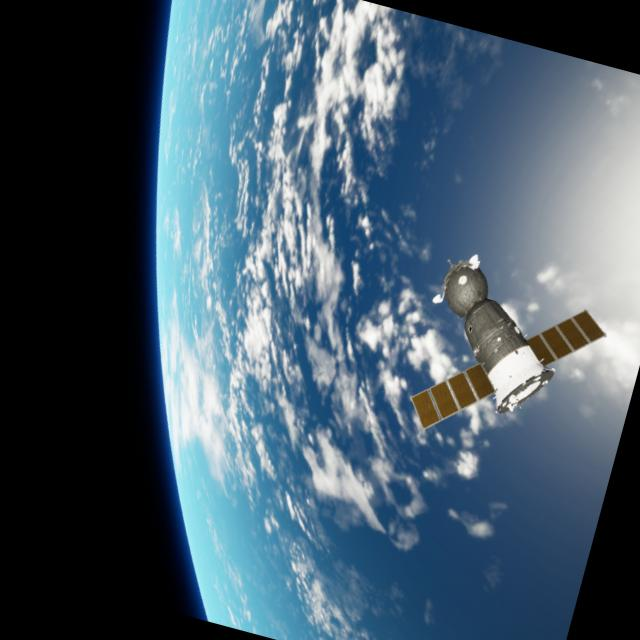Satellites revolving around earth: (396, 244, 618, 472)
